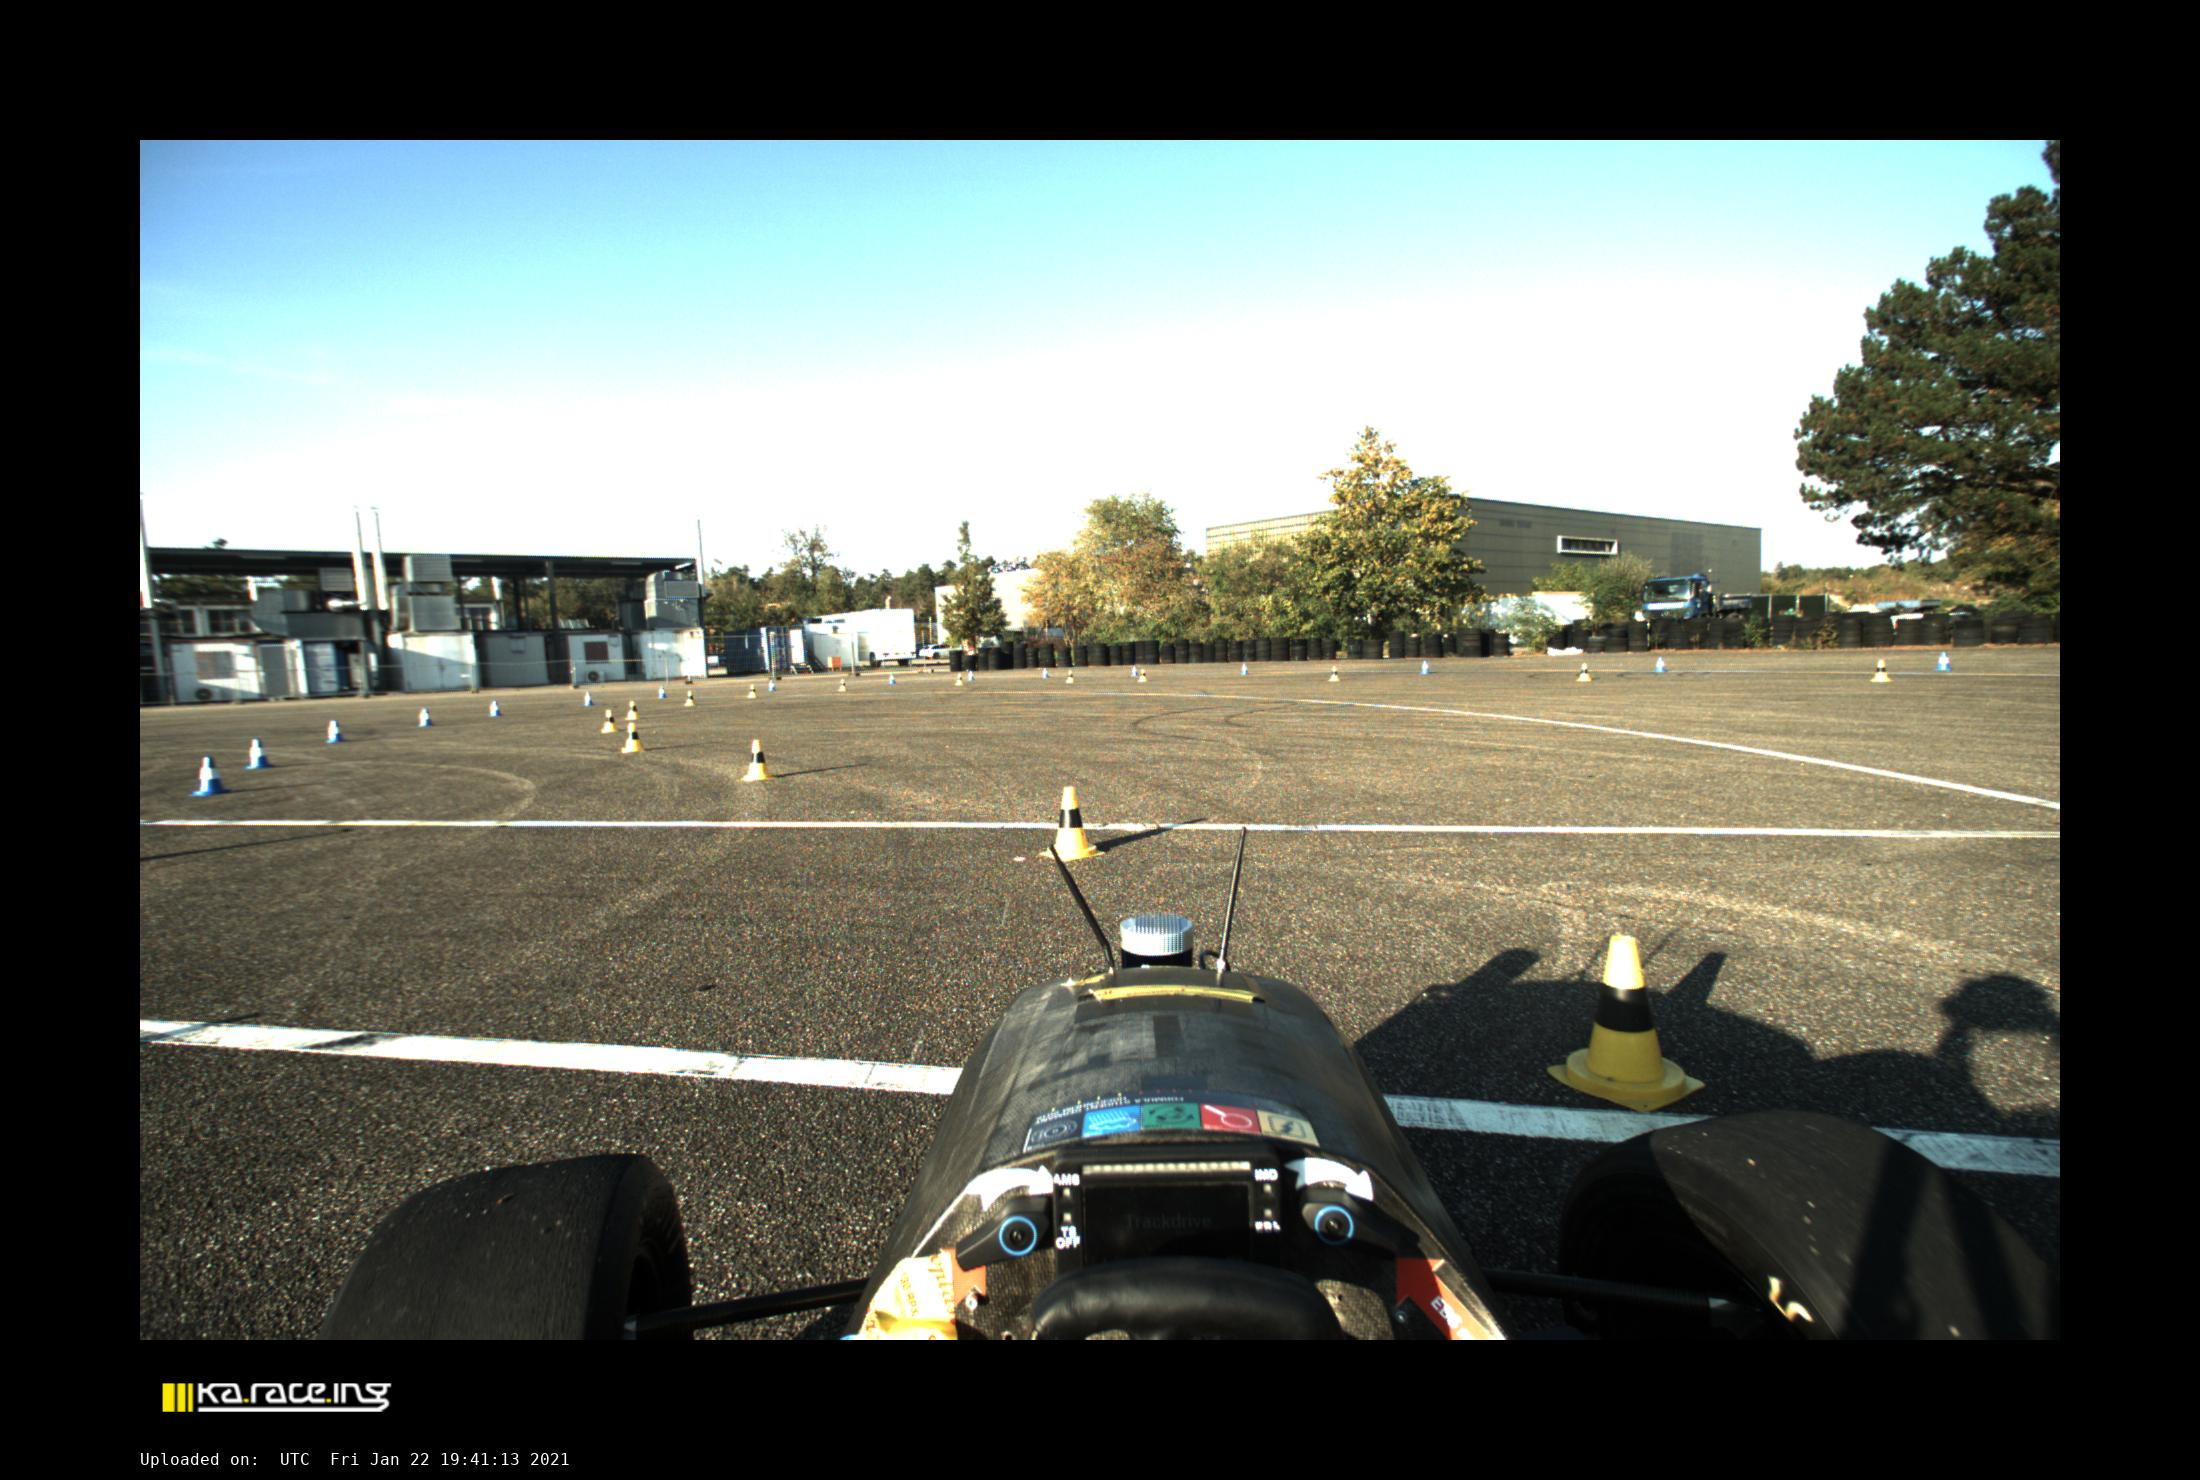blue_cone: (188, 757, 231, 798), (246, 738, 276, 770), (324, 719, 345, 742), (1934, 651, 1952, 671), (416, 709, 434, 727), (487, 700, 502, 717), (1653, 656, 1667, 672), (583, 690, 595, 705), (1419, 661, 1430, 674), (1239, 662, 1249, 676), (657, 685, 667, 699), (887, 672, 897, 685), (1041, 667, 1050, 679), (768, 679, 776, 690), (966, 671, 974, 681), (1130, 666, 1136, 677)
yellow_cone: (1548, 935, 1705, 1112), (1041, 786, 1103, 861), (740, 738, 771, 780), (623, 720, 644, 752), (1870, 659, 1893, 682), (601, 709, 618, 733), (623, 700, 638, 719), (1577, 662, 1592, 681), (684, 690, 695, 707), (951, 672, 965, 685), (1328, 666, 1339, 681), (747, 682, 756, 699), (837, 679, 847, 692), (1138, 669, 1146, 682), (1065, 669, 1074, 682)
